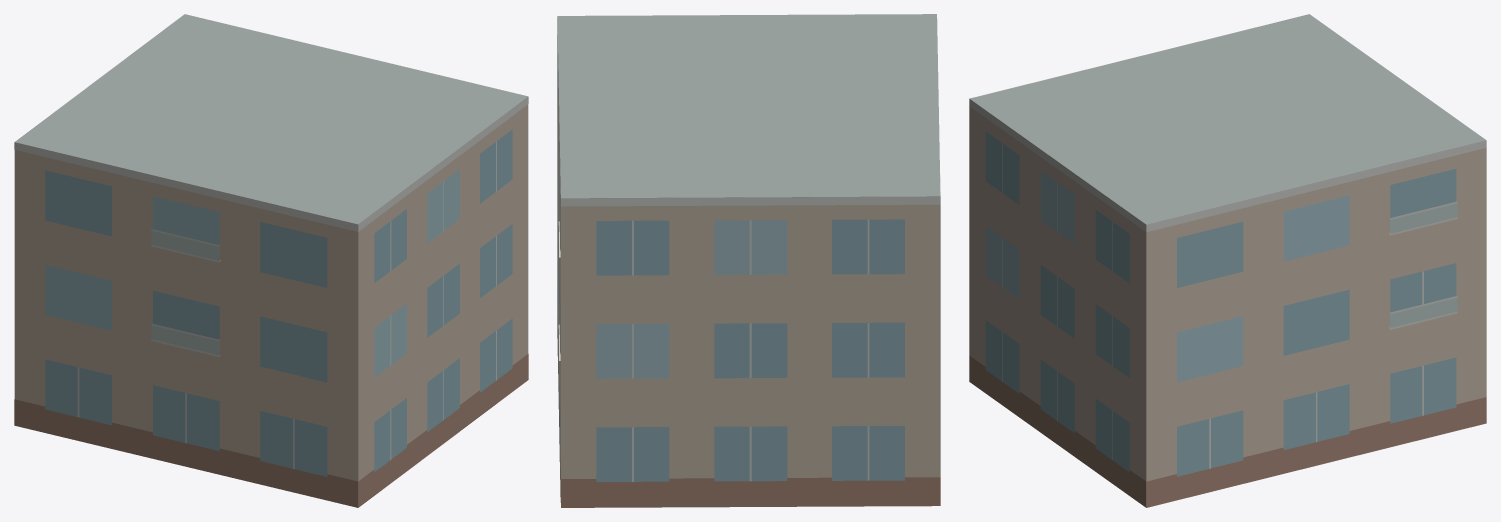
Rendered from survey-upis-33021098.glb.
3 views of the same model, side by side, from view 1: azimuth 30°, elevation 25°; view 2: azimuth 150°, elevation 25°; view 3: azimuth 270°, elevation 25° (orthographic). The views are drawn at different scales.
Parts seen in each view (by area): view 1: survey-upis-33021098.tmp; view 2: survey-upis-33021098.tmp; view 3: survey-upis-33021098.tmp.
Part boxes in pixels (x1=…): survey-upis-33021098.tmp: x1=14, y1=14, x2=528, y2=507; survey-upis-33021098.tmp: x1=557, y1=14, x2=940, y2=507; survey-upis-33021098.tmp: x1=969, y1=14, x2=1486, y2=507.
Size of the model in its own units: 14.61 by 9.15 by 15.16.
